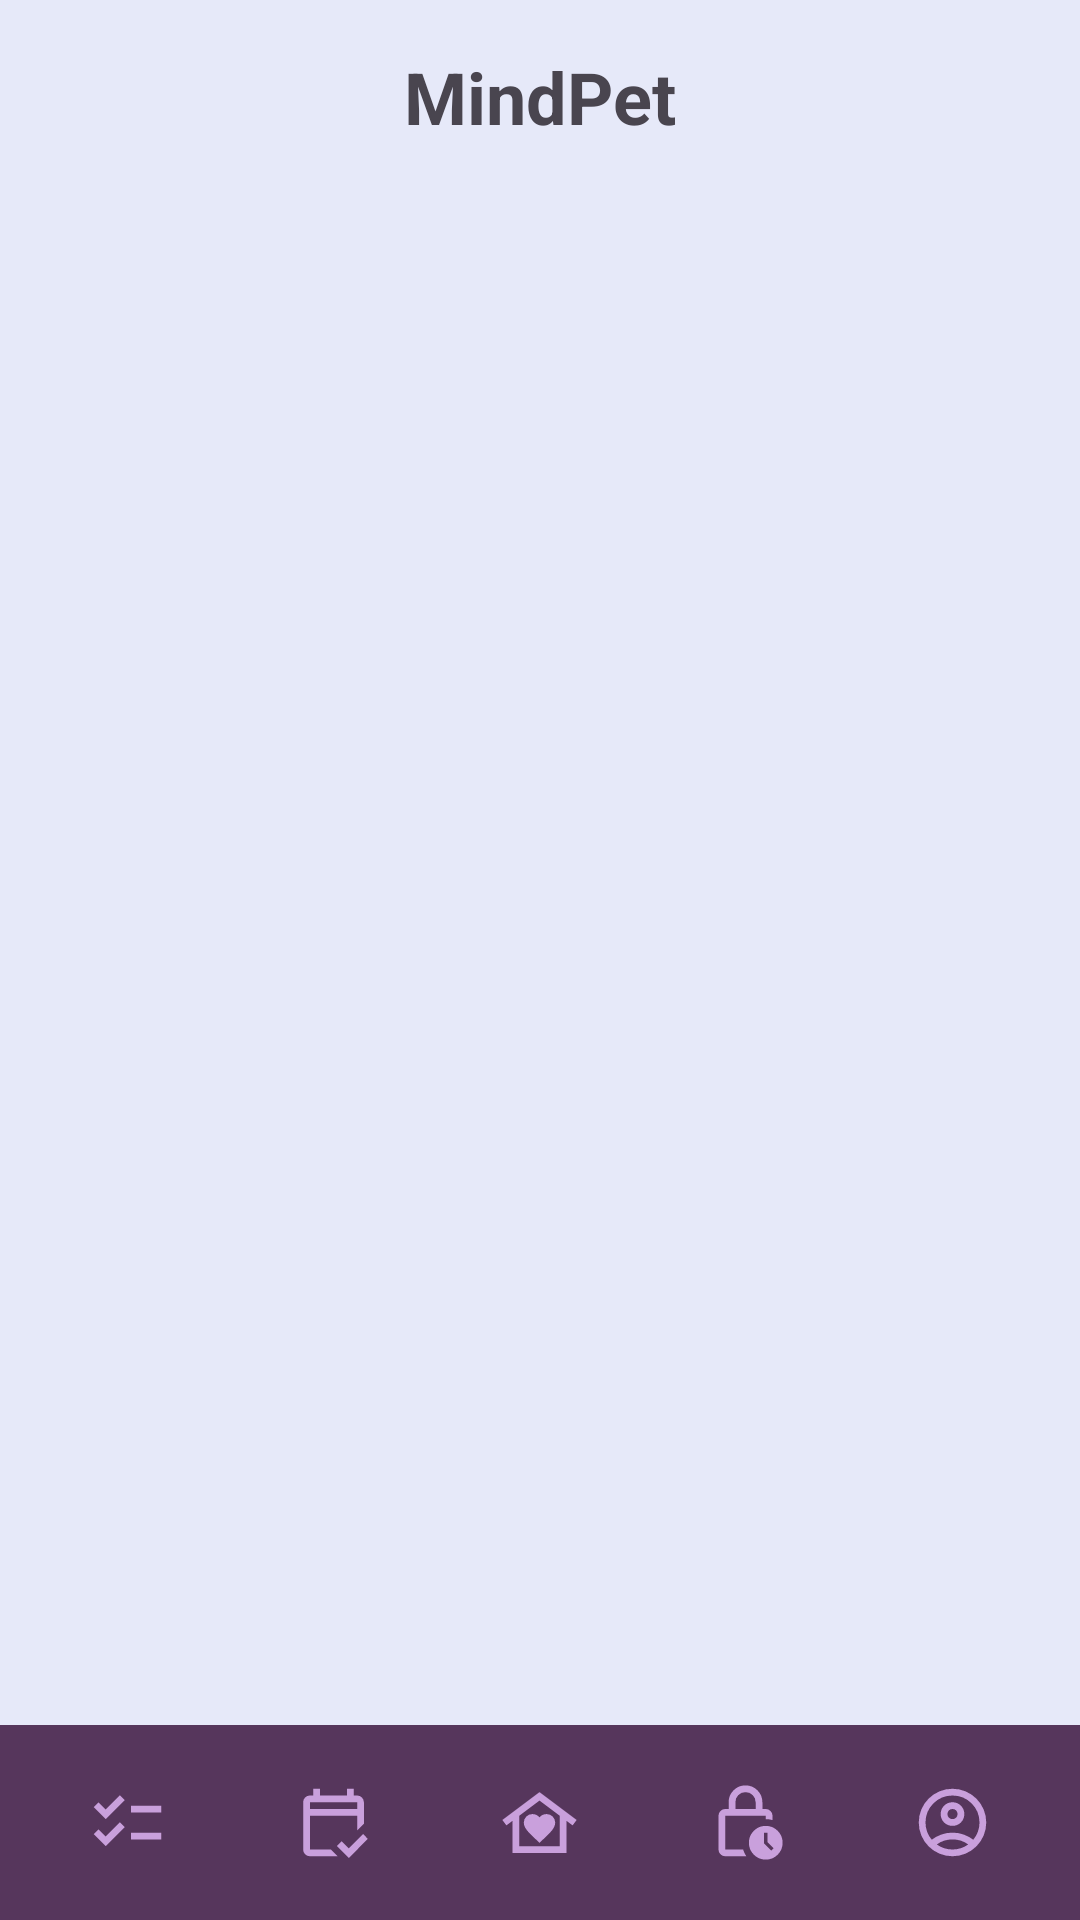

Point at icon controls on the screen. Image size 1080px x 1920px, points as (x,y).
account: (952,1822)
calendar: (335,1823)
checklist: (128,1820)
home: (539,1822)
